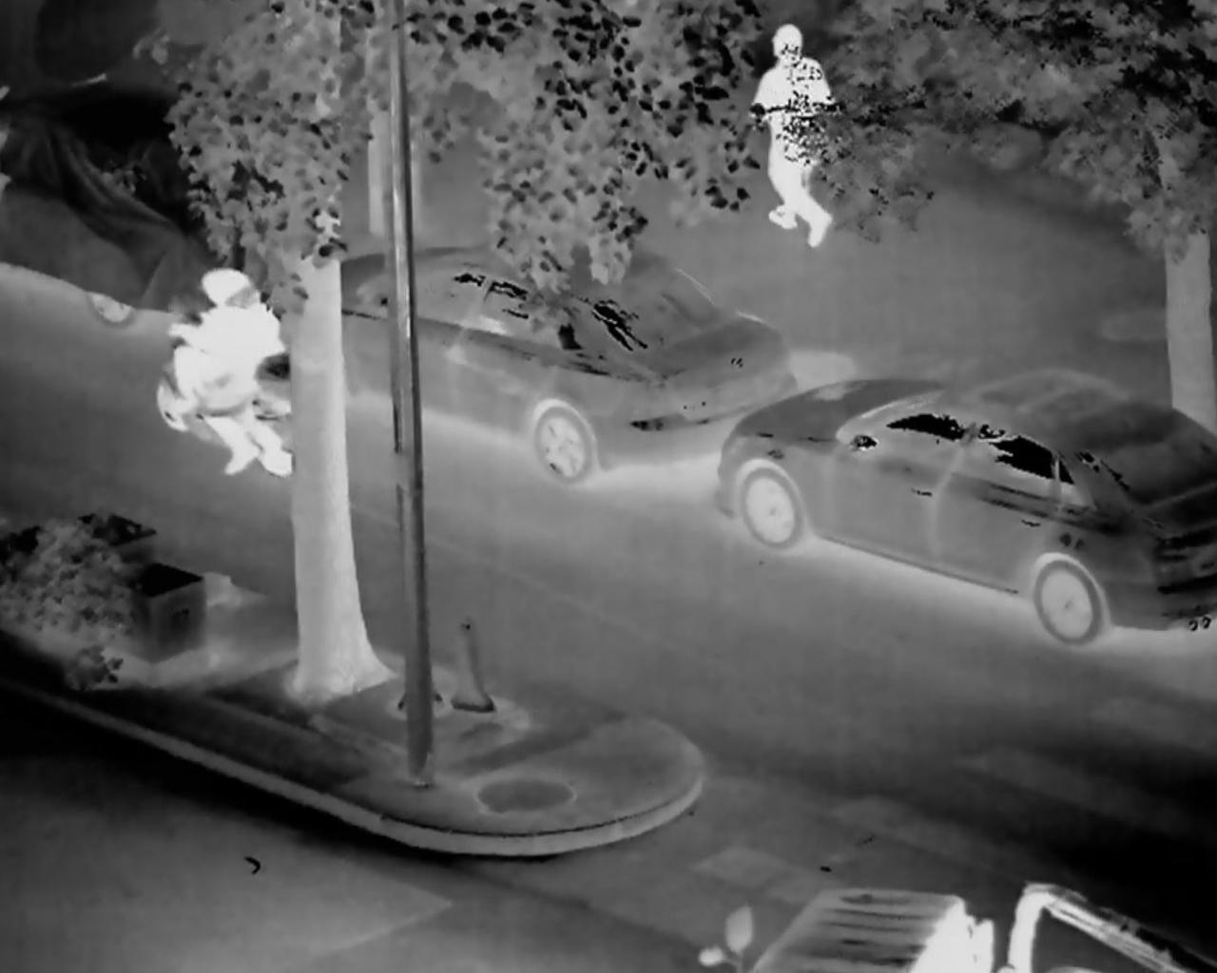person: (167, 254, 290, 470), (741, 28, 841, 252)
